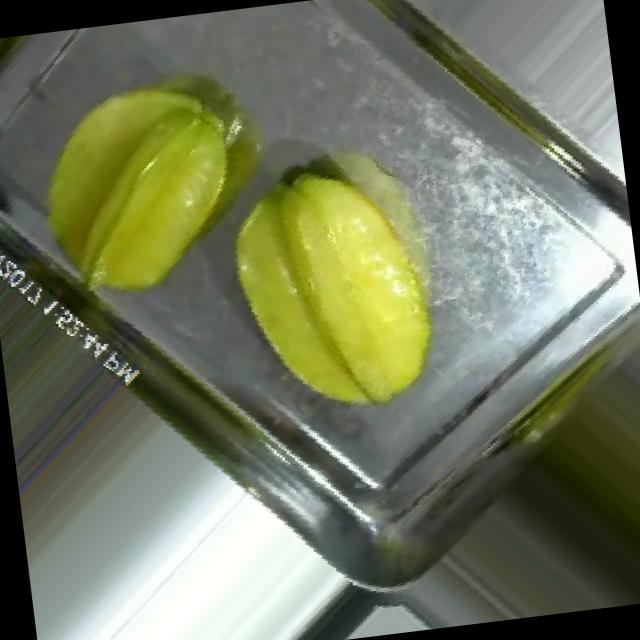fruit: (175, 98, 498, 472), (0, 15, 305, 339), (0, 209, 177, 561)
